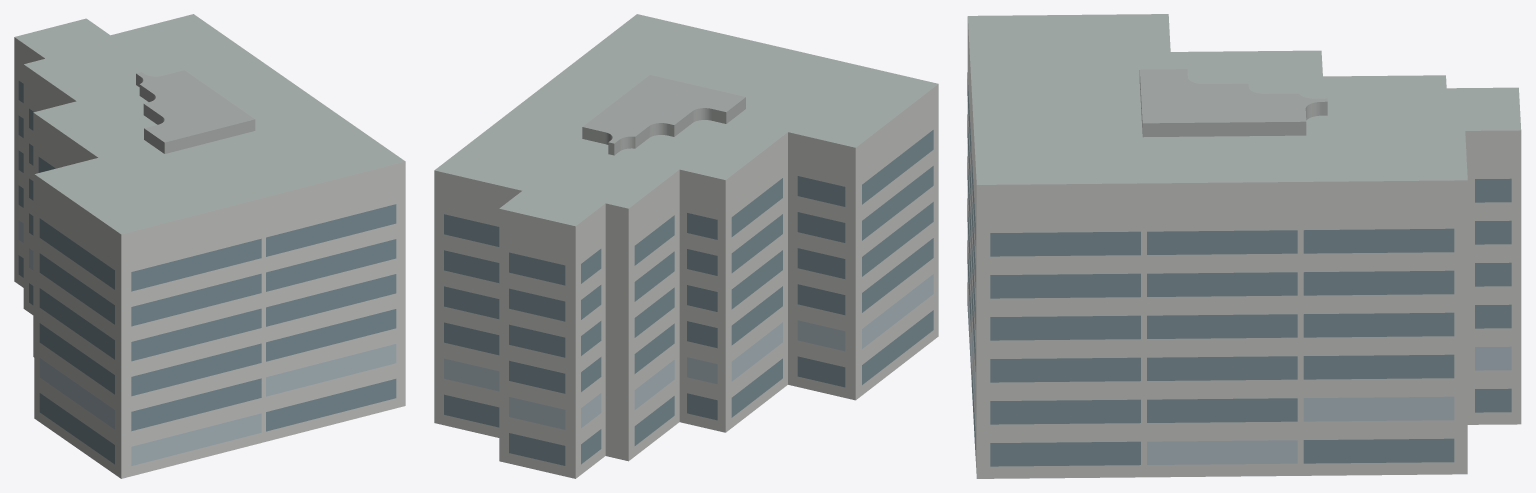
Rendered from fallback-mapo-grang-xi-204.glb.
3 renders of one model, left to right at view 1: azimuth 30°, elevation 25°; view 2: azimuth 150°, elevation 25°; view 3: azimuth 270°, elevation 25°, orthographic. The views are drawn at different scales.
Parts seen in each view (by area): view 1: fallback-mapo-grang-xi-204; view 2: fallback-mapo-grang-xi-204; view 3: fallback-mapo-grang-xi-204.
Boxes of the visible parts, x1,y1,x2,y2 form: fallback-mapo-grang-xi-204: (14, 14, 405, 478); fallback-mapo-grang-xi-204: (434, 14, 938, 478); fallback-mapo-grang-xi-204: (967, 14, 1521, 478).
Size of the model in its own units: 25.07 by 21 by 34.27.
